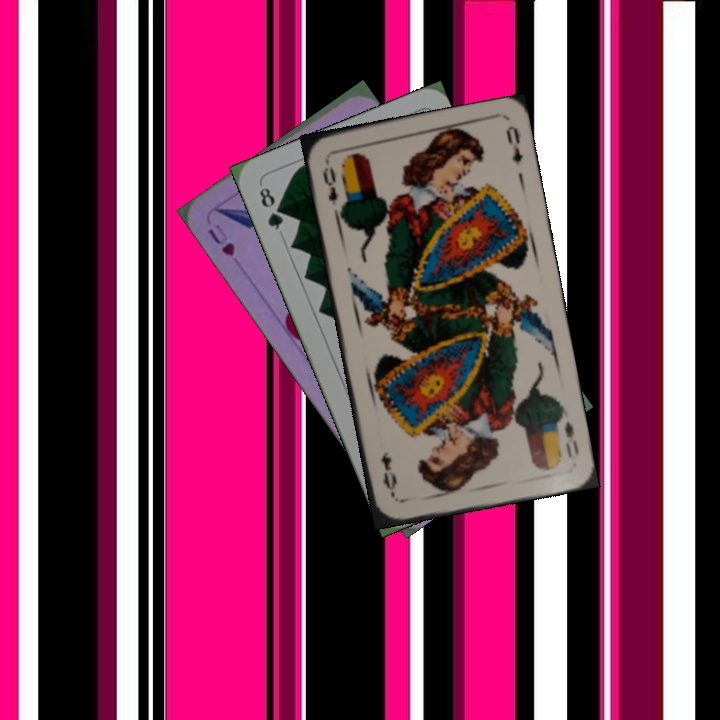EO: (318, 156, 340, 208), (560, 417, 582, 460)
G8: (255, 183, 286, 233)
HU: (204, 219, 238, 259)
